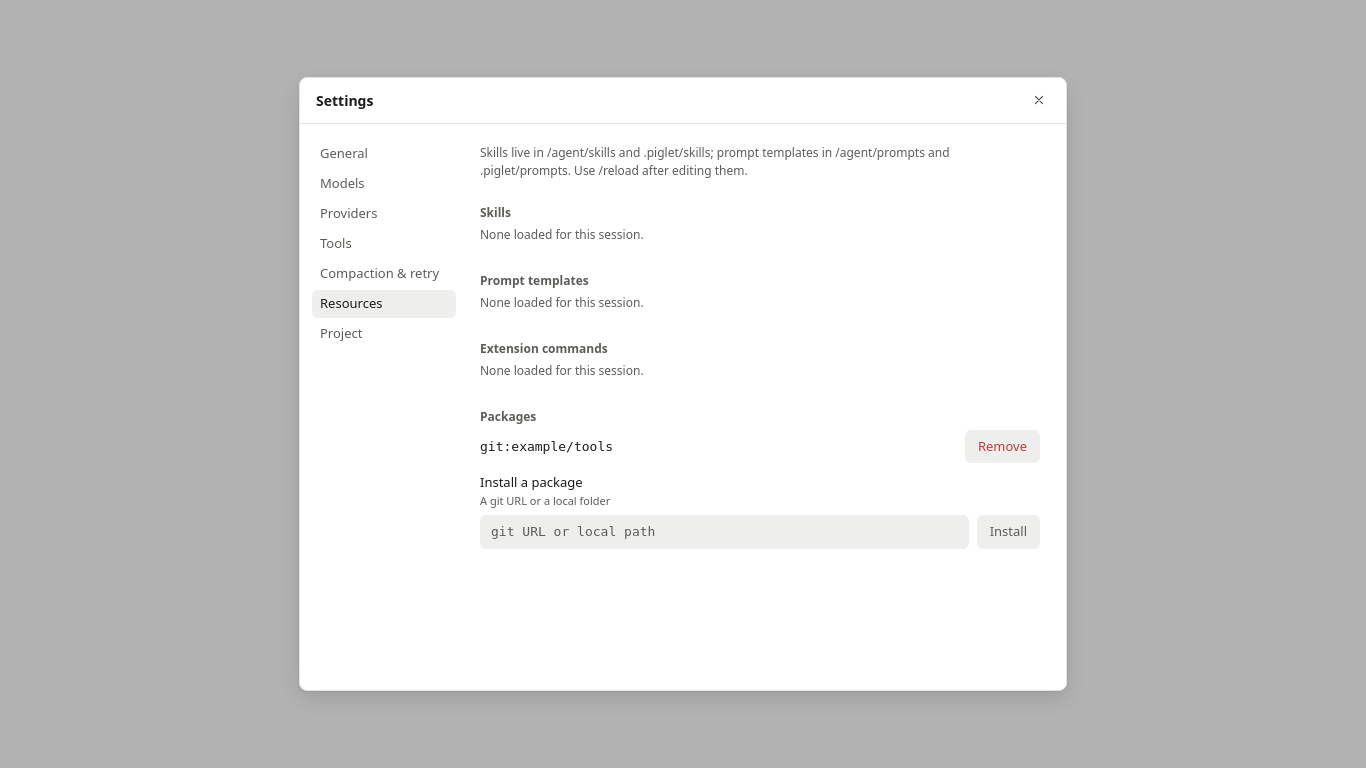
Settings controls › asks before removing a package
Click the button with aria-label "Remove git:example/tools".
click(1002, 447)  # box [965,430,1040,463]
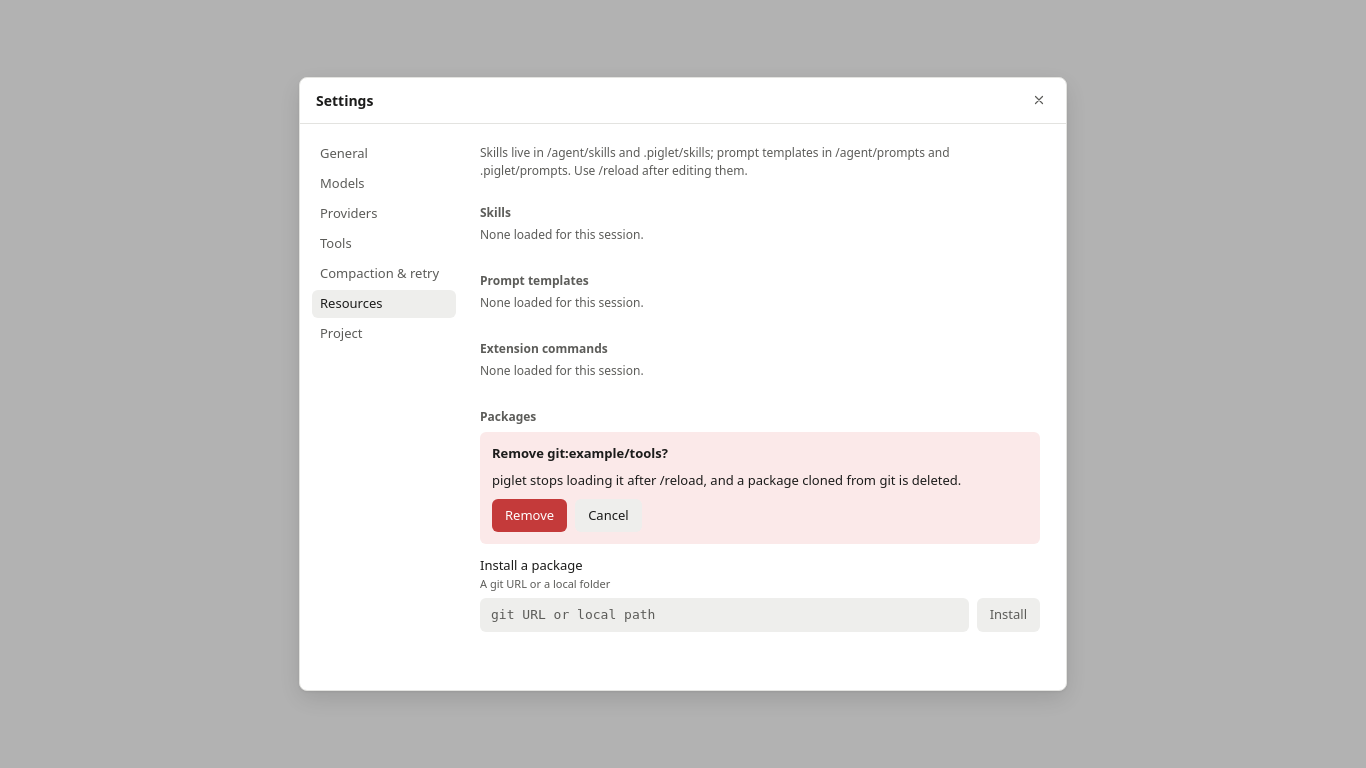
expect the button "Cancel" is shown: met, box [575,499,642,532]
Click the button "Remove".
click(530, 516)  # box [492,499,567,532]
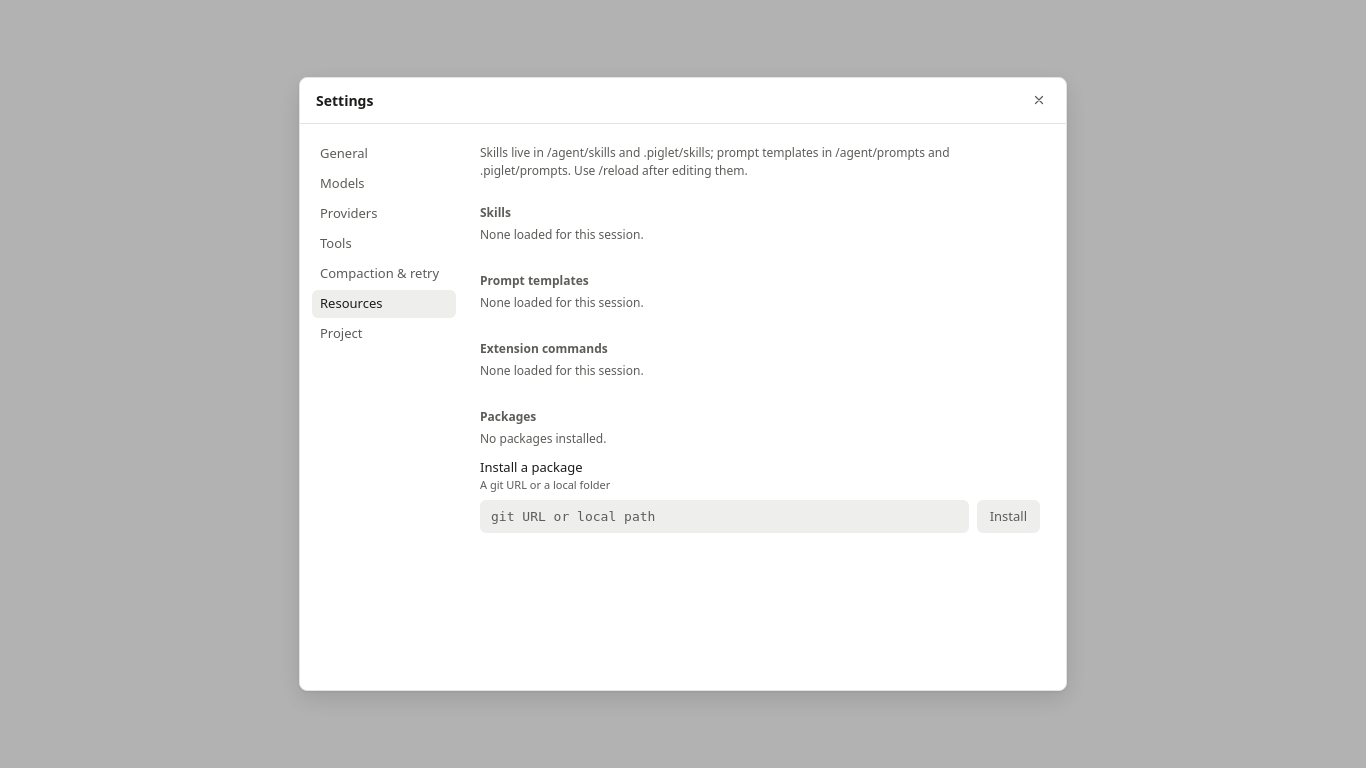
expect the text "No packages installed." is shown: met, box [480,430,606,447]
